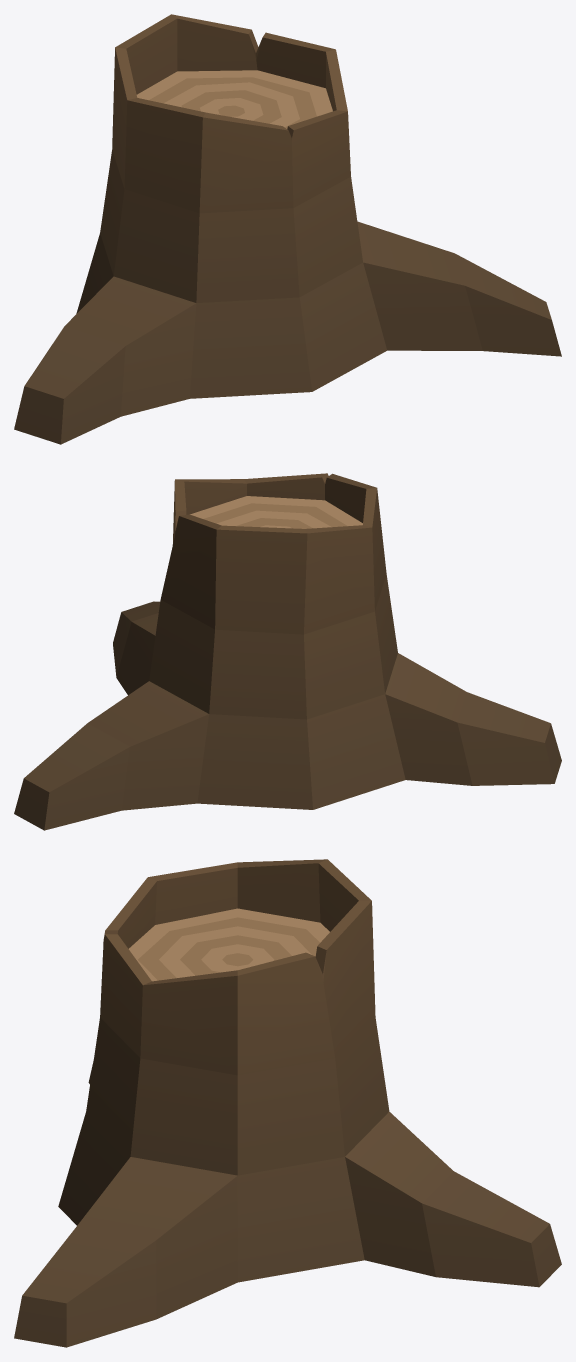
Rendered from Summer_Stump_01.glb.
The picture shows the model from 3 angles, top to bottom: view 1: azimuth 30°, elevation 25°; view 2: azimuth 150°, elevation 25°; view 3: azimuth 270°, elevation 25°; orthographic projection. The views are drawn at different scales.
Parts seen in each view (by area): view 1: Summer_Stump_01_LOD0; view 2: Summer_Stump_01_LOD0; view 3: Summer_Stump_01_LOD0.
Part boxes in pixels (<box>): Summer_Stump_01_LOD0: <box>14,14,561,444</box>; Summer_Stump_01_LOD0: <box>14,473,561,830</box>; Summer_Stump_01_LOD0: <box>14,859,561,1347</box>.
Size of what is drawn, in the model's own units: 0.7207 by 0.3835 by 0.609.
1 material, 1 textured.
